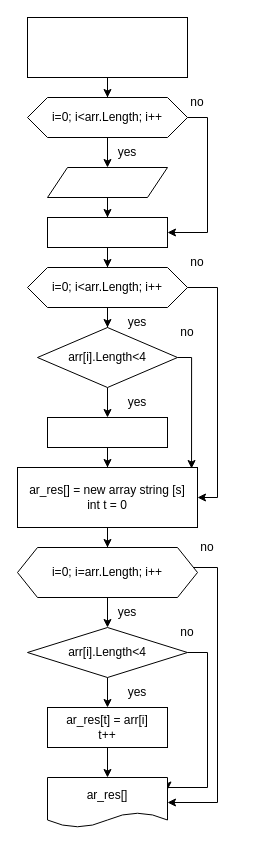
Image size: 255x845. Some labels were removed from this diagram. The shapes that lost their labels are listed below. From the top down, each one's centre as x and y in pixels, then its label:
point 107,47: arr[] = new array string [6]
point 107,182: input arr[i]
point 107,232: s=0
point 107,432: s++
